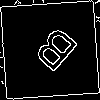B: (25, 25, 81, 81)
